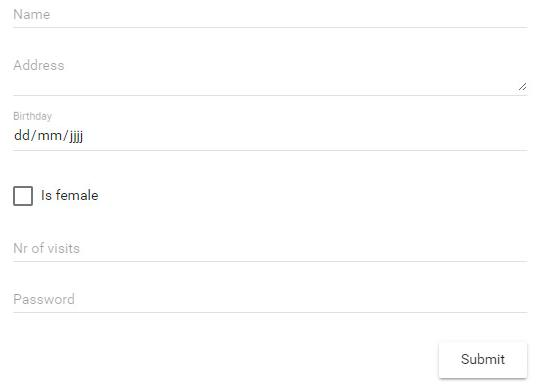button: (436, 341, 531, 382)
checkbox: (12, 184, 35, 208)
checkbox_with_label: (9, 182, 100, 209)
field_line: (9, 57, 528, 97), (9, 124, 527, 154), (8, 239, 528, 265), (11, 6, 531, 31), (11, 290, 531, 315)
field_line_with_label: (9, 111, 529, 156)
